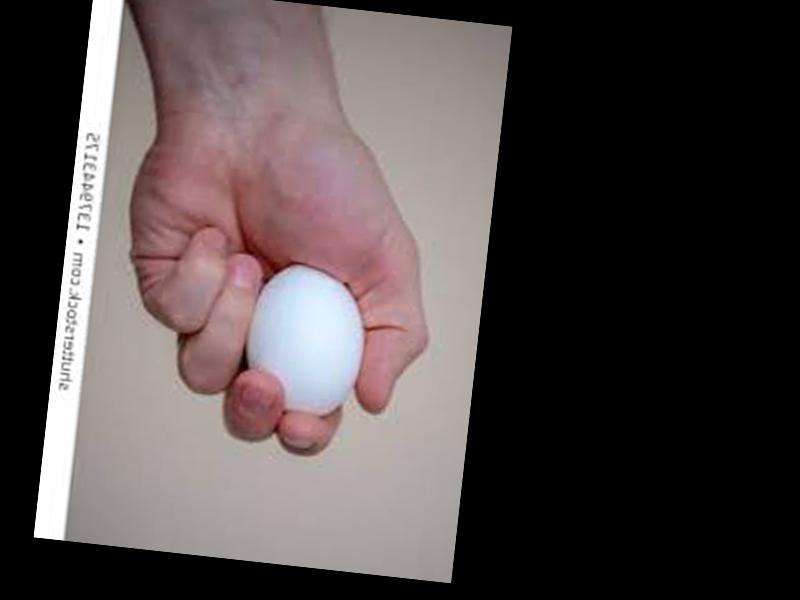Eggs: (241, 257, 371, 419)
